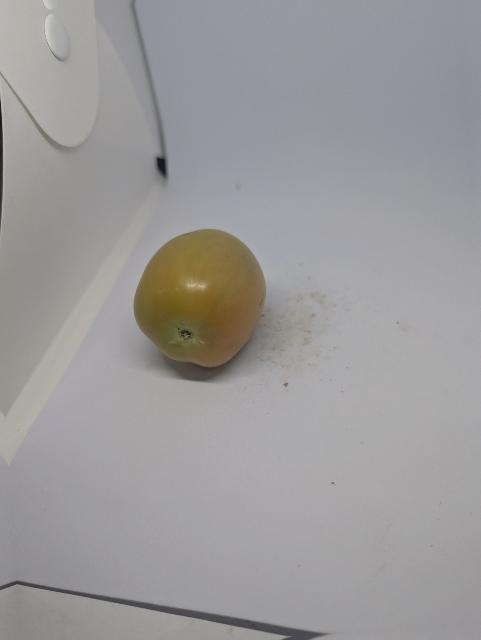breaker: (130, 226, 269, 375)
